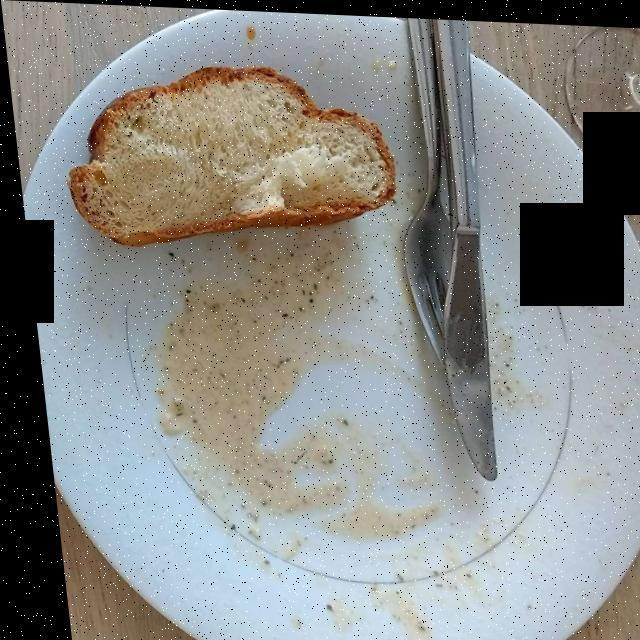bread: (72, 69, 383, 239)
